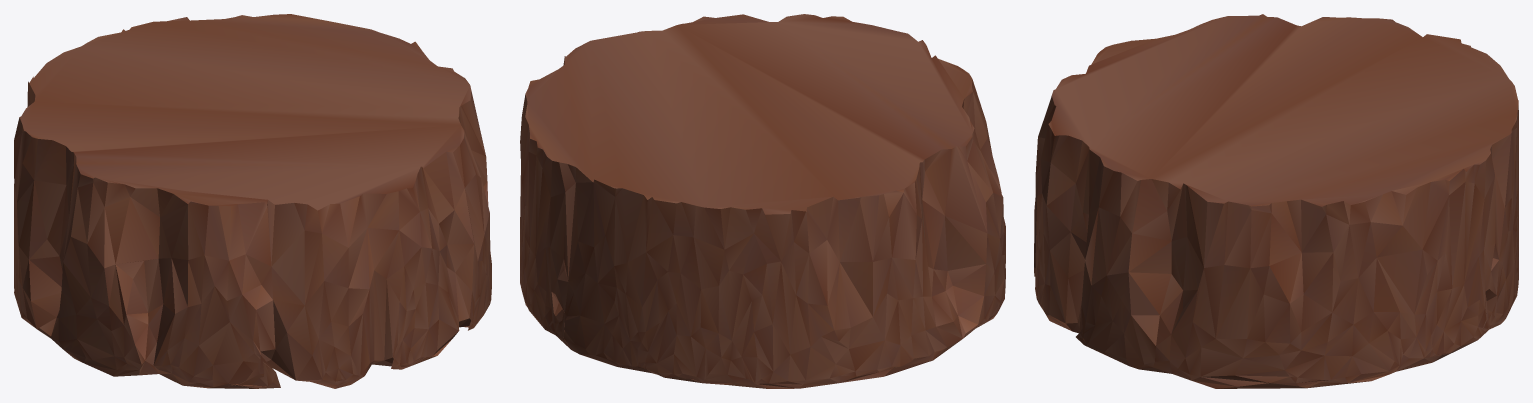
File: sequoia_stump.glb
3 renders of one model, left to right at view 1: azimuth 30°, elevation 25°; view 2: azimuth 150°, elevation 25°; view 3: azimuth 270°, elevation 25°, orthographic.
Parts seen in each view (by area): view 1: Stump; view 2: Stump; view 3: Stump.
Part boxes in pixels (<box>): Stump: <box>14,14,491,388</box>; Stump: <box>520,14,1005,388</box>; Stump: <box>1034,14,1518,388</box>.
Size of the model in its own units: 2.4 by 1.01 by 2.4.
